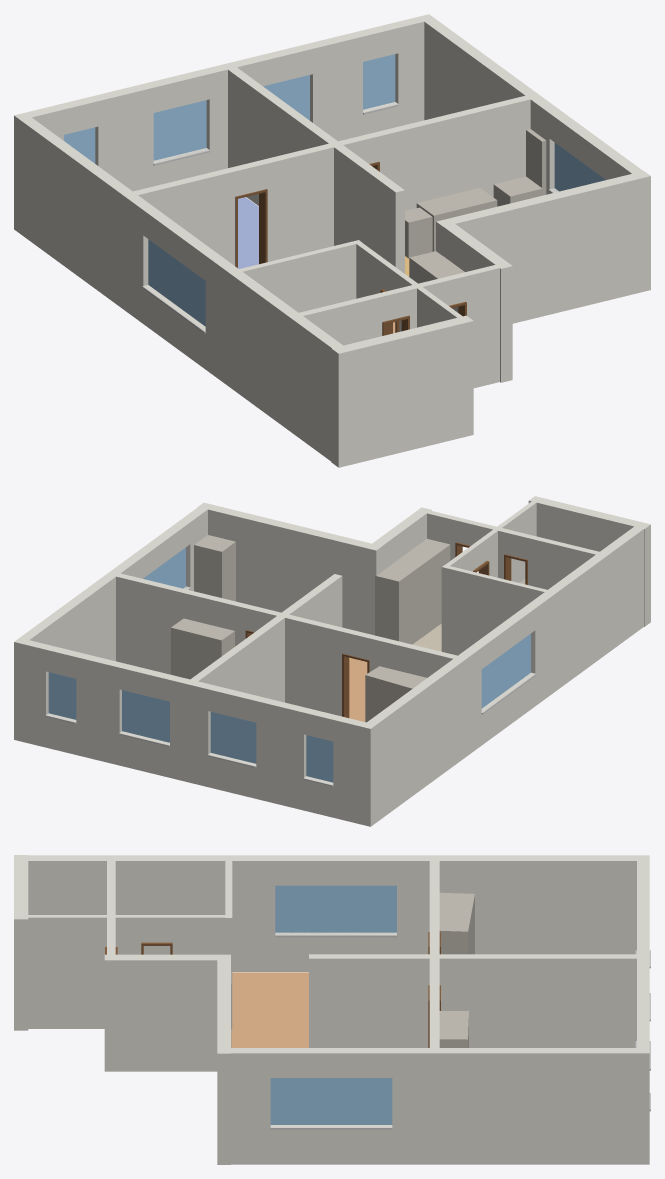
3 views of the same model, one above another, from view 1: azimuth 30°, elevation 25°; view 2: azimuth 150°, elevation 25°; view 3: azimuth 270°, elevation 25° (orthographic). The views are drawn at different scales.
Visible parts, largest first — view 1: walls, window_6, window_0, furniture_5_appliance, window_3, floor_0_Bed_Room, window_5, furniture_11_sink, furniture_4_closet, window_1, furniture_2_closet, furniture_6_appliance (+2 smaller); view 2: walls, furniture_4_closet, furniture_1_closet, furniture_3_closet, window_1, window_6, window_0, furniture_0_closet, window_3, window_2, floor_2_Living_Room, window_5 (+1 smaller); view 3: walls, floor_2_Living_Room, window_6, window_5, furniture_0_closet, furniture_1_closet, sill_6.
Boxes of the visible parts, x1,y1,x2,y2 form: walls: [14, 14, 650, 467]; window_6: [148, 239, 205, 326]; window_0: [153, 100, 206, 160]; furniture_5_appliance: [416, 188, 497, 251]; window_3: [363, 54, 395, 109]; floor_0_Bed_Room: [238, 197, 258, 268]; window_5: [554, 142, 605, 191]; furniture_11_sink: [405, 207, 432, 258]; furniture_4_closet: [409, 251, 464, 312]; window_1: [263, 75, 309, 120]; furniture_2_closet: [526, 129, 546, 195]; furniture_6_appliance: [493, 176, 542, 206]; walls: [14, 496, 650, 826]; furniture_4_closet: [375, 539, 450, 644]; furniture_1_closet: [171, 618, 234, 679]; furniture_3_closet: [194, 535, 235, 601]; window_1: [122, 690, 169, 742]; window_6: [481, 633, 530, 708]; window_0: [210, 712, 256, 763]; furniture_0_closet: [365, 666, 426, 722]; window_3: [48, 672, 76, 719]; window_2: [306, 735, 333, 782]; floor_2_Living_Room: [349, 658, 367, 721]; window_5: [143, 547, 185, 588]; walls: [14, 855, 649, 1164]; floor_2_Living_Room: [231, 972, 308, 1047]; window_6: [275, 885, 396, 932]; window_5: [270, 1078, 392, 1124]; furniture_0_closet: [439, 892, 474, 954]; furniture_1_closet: [439, 1011, 468, 1047]; sill_6: [275, 933, 396, 937].
Bounding box in the file's own units: 10.35 × 2.72 × 14.
